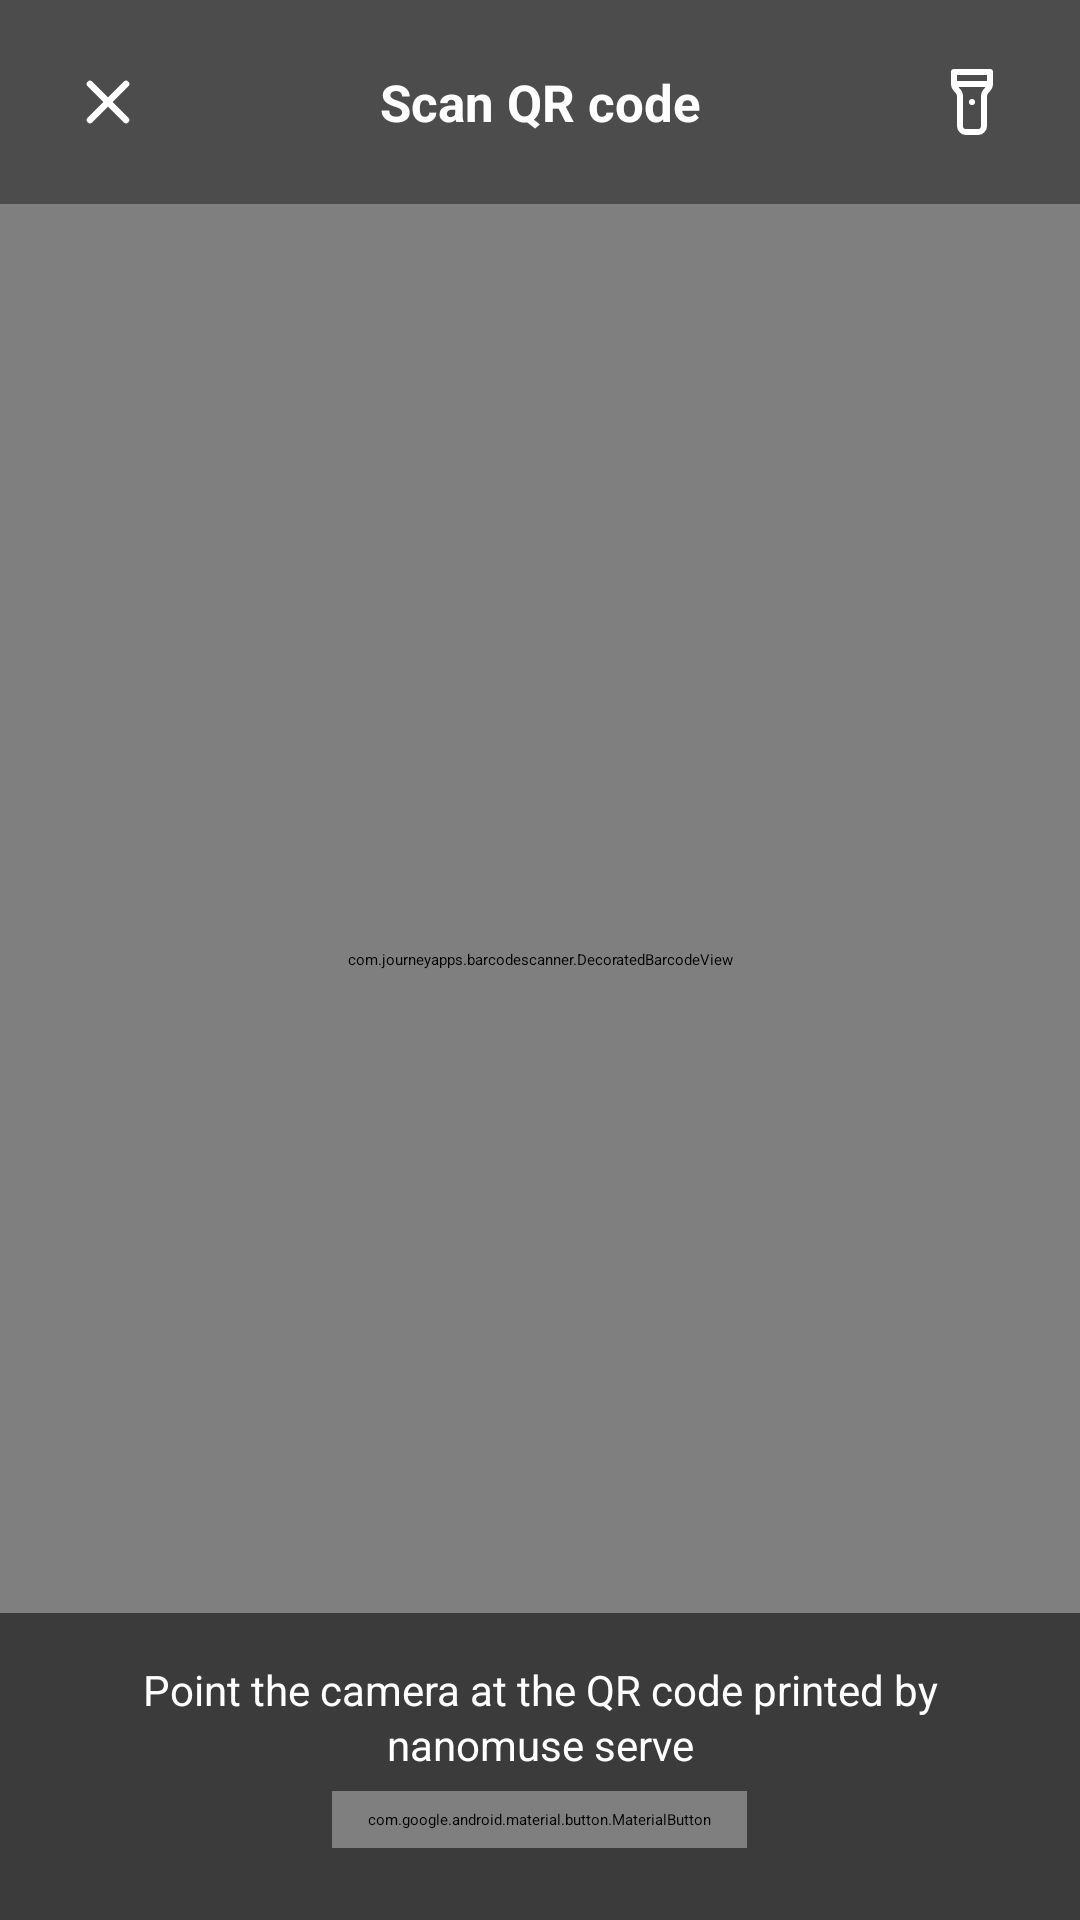

Screen size 1080×1920. Icon name, then its center in pixels as (x=x, y=y):
Close scanner: (x=108, y=102)
Toggle flashlight: (x=972, y=102)
